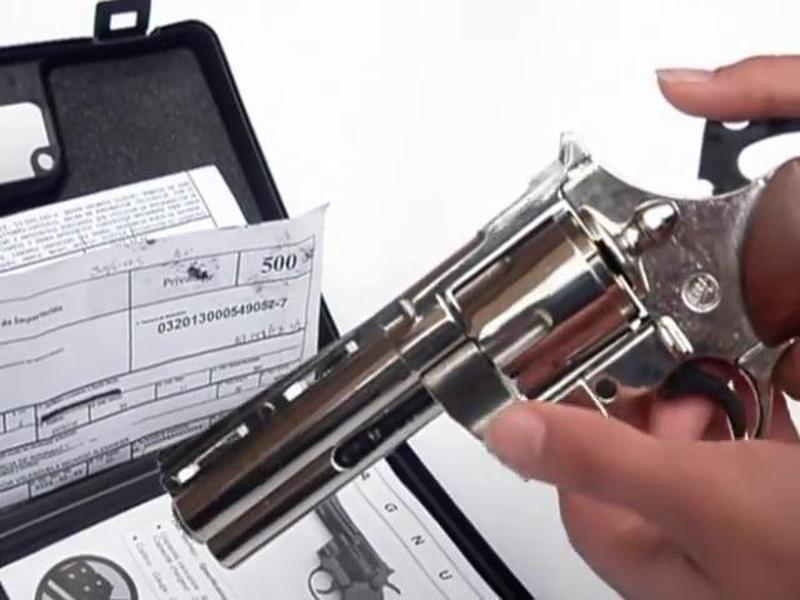Revolver: (165, 107, 800, 564)
